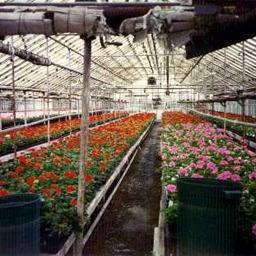Bote de Basura: (176, 175, 241, 255), (2, 190, 42, 253)
